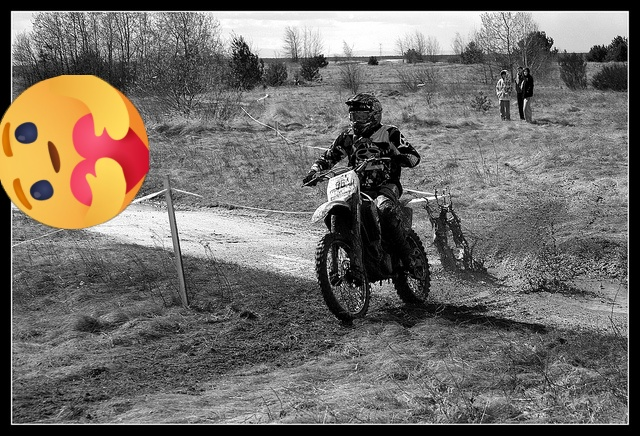care: (0, 75, 149, 229)
